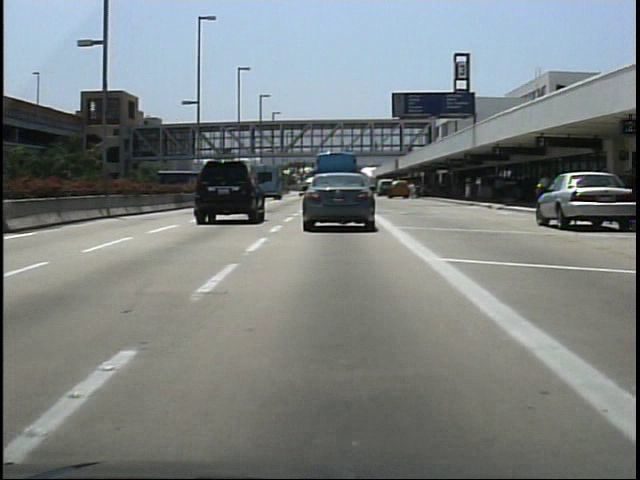person: (535, 169, 553, 210), (490, 173, 508, 207), (405, 178, 421, 205), (370, 137, 383, 158), (336, 136, 349, 156)
